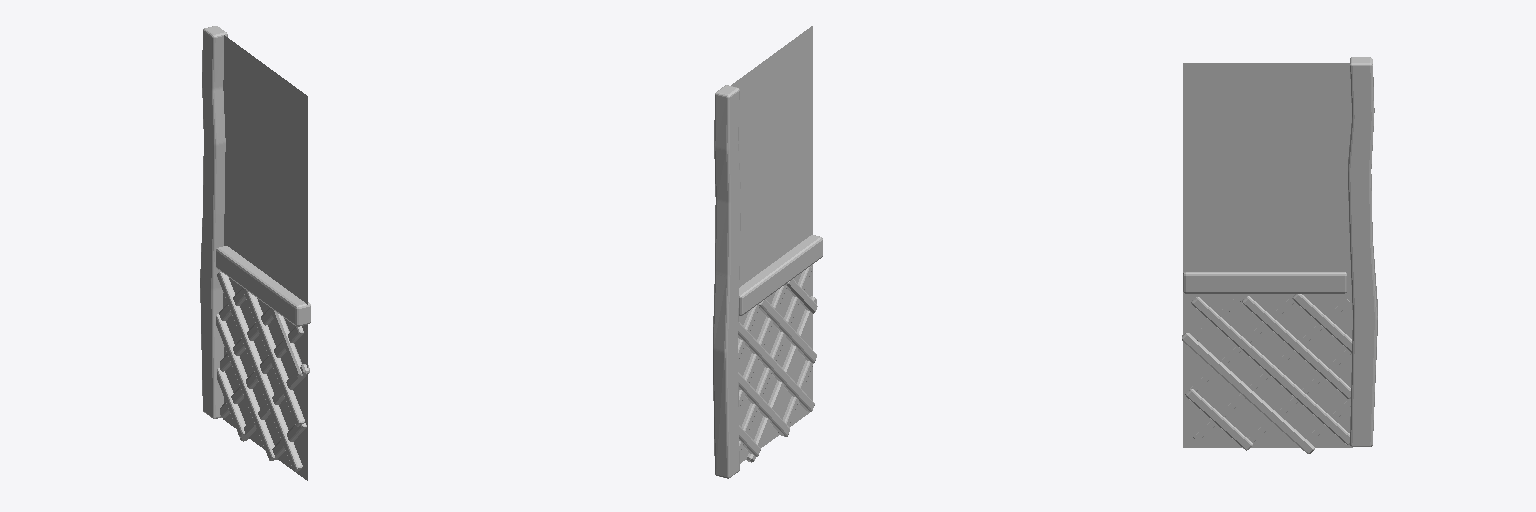
Rendered from sidePanelHP.obj.
3 renders of one model, left to right at view 1: azimuth 30°, elevation 25°; view 2: azimuth 150°, elevation 25°; view 3: azimuth 270°, elevation 25°, orthographic.
Visible parts, largest first — view 1: default; view 2: default; view 3: default.
Boxes of the visible parts, x1,y1,x2,y2 form: default: [200, 26, 310, 480]; default: [713, 26, 822, 478]; default: [1182, 57, 1377, 453].
Bounding box in the file's own units: 0.2583 × 6.32 × 2.88.